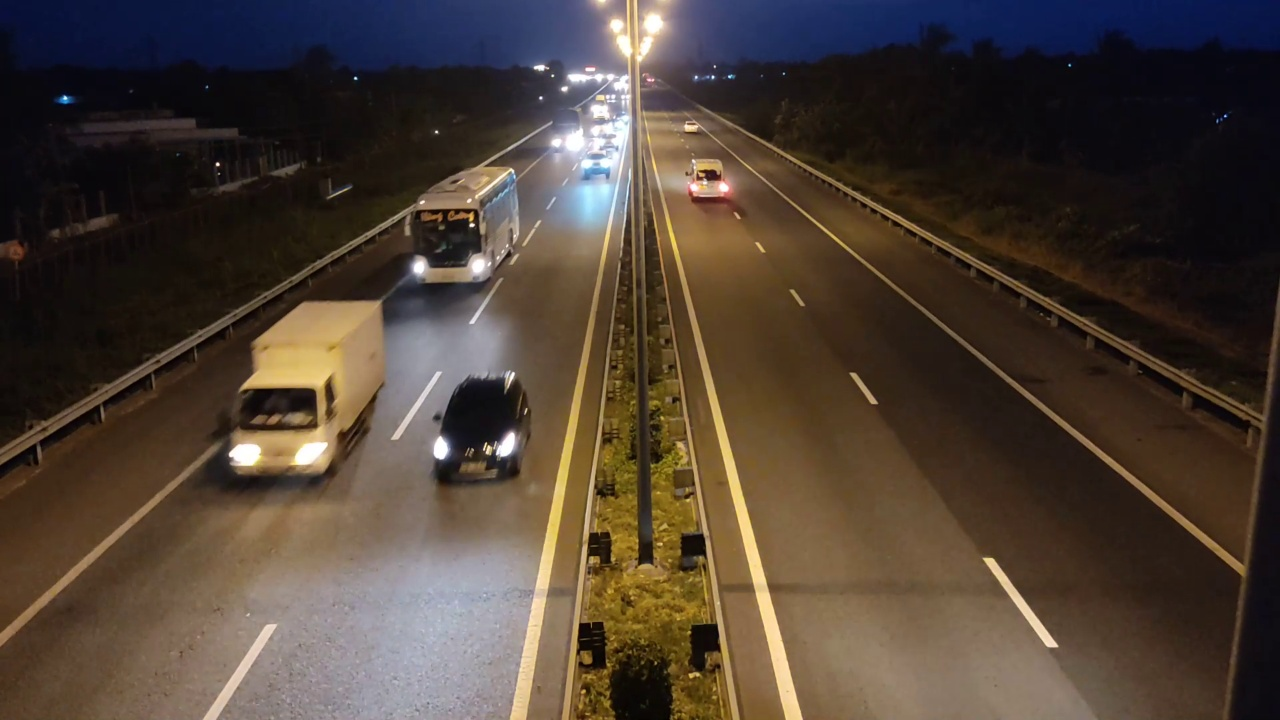bus: (410, 165, 520, 285)
car: (429, 369, 533, 483)
truck: (223, 298, 387, 483)
